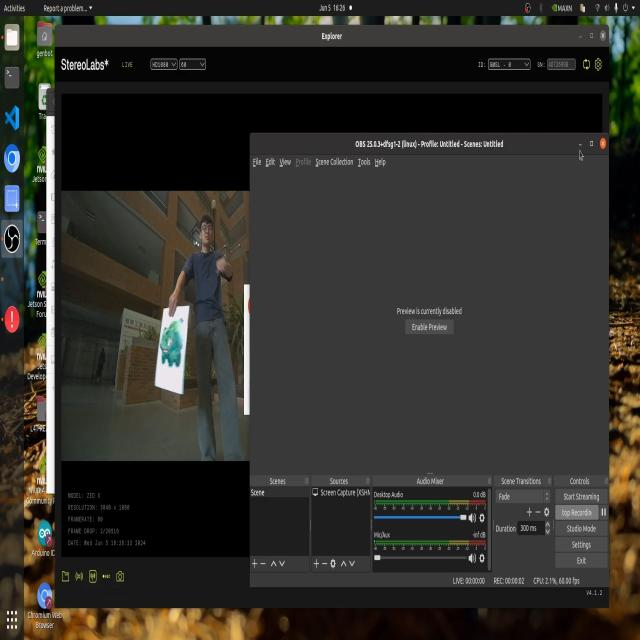green: (152, 306, 183, 388)
